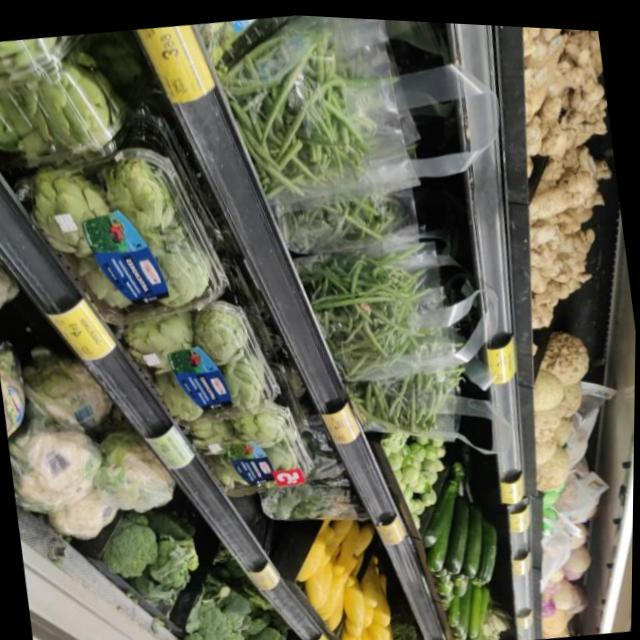Broccoli: (95, 507, 161, 581), (143, 529, 200, 586), (178, 623, 233, 640), (252, 620, 289, 640)
Cauliflower: (5, 410, 109, 522), (23, 332, 114, 432), (93, 419, 181, 512), (0, 331, 28, 433)
Squash: (336, 568, 387, 640), (300, 523, 343, 605), (327, 511, 366, 570)
Zucchini: (419, 471, 471, 569), (439, 493, 478, 573), (455, 496, 489, 575), (448, 571, 485, 635), (469, 514, 502, 582), (463, 581, 496, 640)
